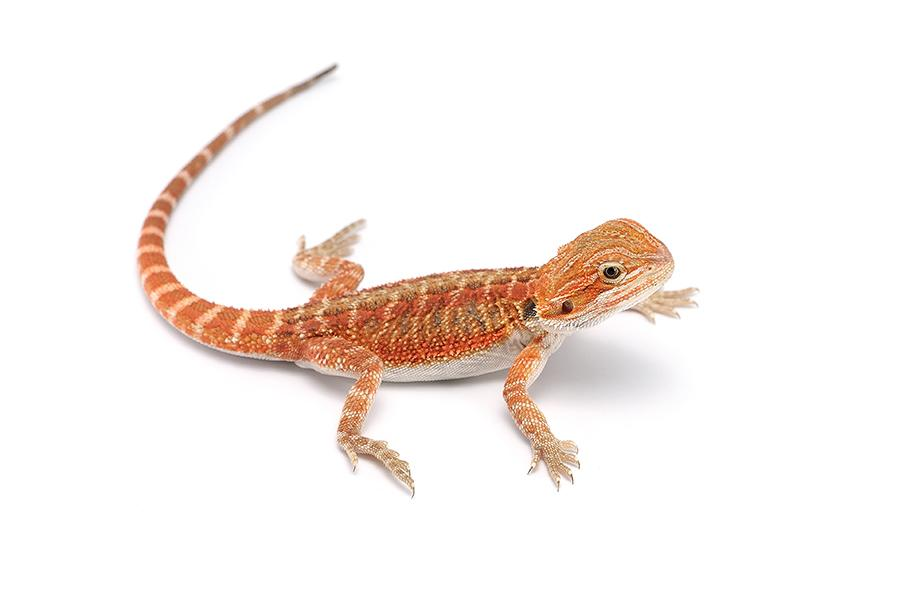bearded: (136, 63, 705, 506)
